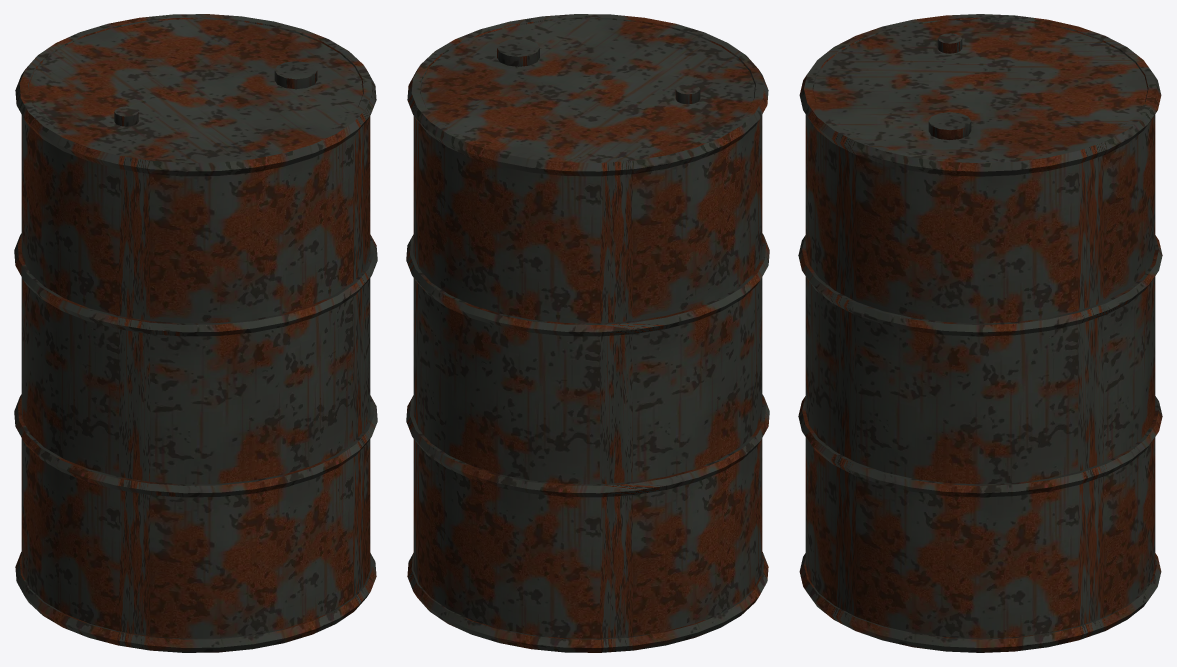
The model's file is oil_drum.glb.
The picture shows the model from 3 angles, left to right: view 1: azimuth 30°, elevation 25°; view 2: azimuth 150°, elevation 25°; view 3: azimuth 270°, elevation 25°; orthographic projection.
Visible parts, largest first — view 1: Oil_Drum_200L; view 2: Oil_Drum_200L; view 3: Oil_Drum_200L.
Part boxes in pixels (bbox=[...]): Oil_Drum_200L: bbox=[14, 14, 377, 652]; Oil_Drum_200L: bbox=[406, 14, 769, 652]; Oil_Drum_200L: bbox=[798, 14, 1162, 652].
Size of the model in its own units: 0.5961 by 0.9001 by 0.5961.
Materials: 1 (1 with a texture image).
